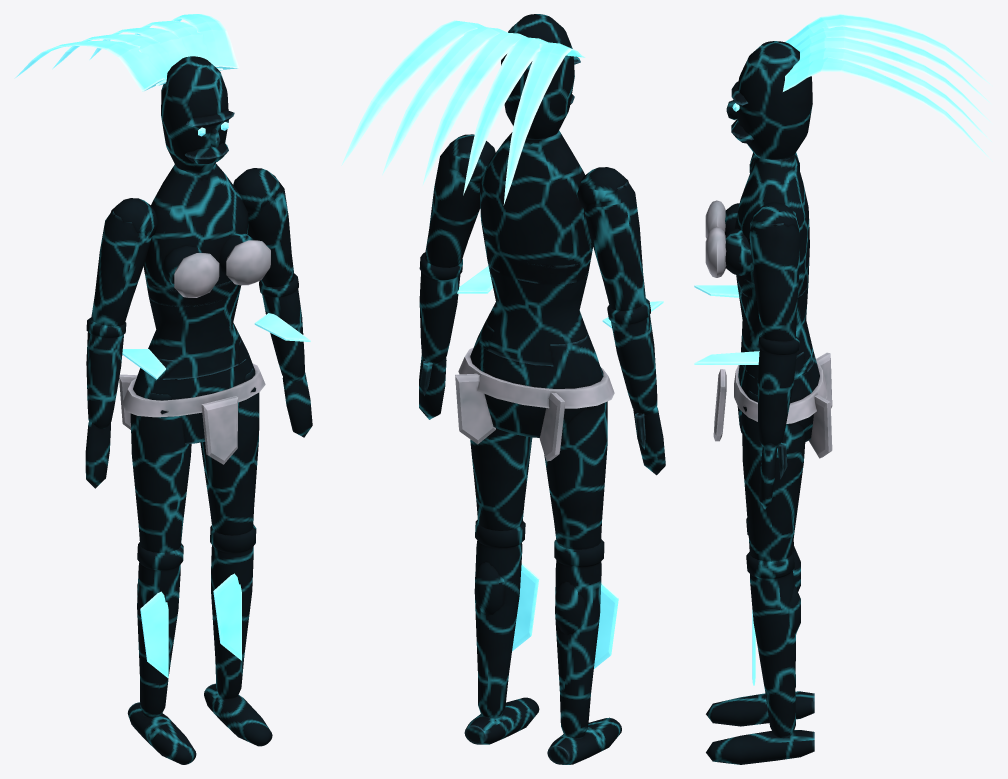
Rendered from underworld-surtling-water-feminine.glb.
The picture shows the model from 3 angles, left to right: view 1: azimuth 30°, elevation 25°; view 2: azimuth 150°, elevation 25°; view 3: azimuth 270°, elevation 25°; orthographic projection. The views are drawn at different scales.
Visible parts, largest first — view 1: Chest.chest, LeftUpperLeg.thigh, Spine.abdomen, Head.head, RightUpperLeg.thigh, LeftUpperArm.upper-arm, LeftLowerLeg.shin, RightLowerLeg.shin, Hips.pelvis, LeftLowerArm.forearm, RightUpperArm.upper-arm, Hips.girdle (+24 smaller); view 2: Chest.chest, Spine.abdomen, LeftUpperLeg.thigh, Hips.pelvis, LeftLowerLeg.shin, LeftUpperArm.upper-arm, RightLowerLeg.shin, RightUpperLeg.thigh, RightUpperArm.upper-arm, Head.head, LeftLowerArm.forearm, Head.current-0 (+23 smaller); view 3: Head.head, RightUpperLeg.thigh, RightLowerLeg.shin, RightUpperArm.upper-arm, Chest.chest, RightLowerArm.forearm, RightFoot.foot, Spine.abdomen, Head.current-4, LeftFoot.foot, Head.current-0, Head.current-3 (+14 smaller).
Part boxes in pixels (x1=…): Chest.chest: x1=143, y1=163, x2=248, y2=306; LeftUpperLeg.thigh: x1=130, y1=393, x2=191, y2=552; Spine.abdomen: x1=146, y1=280, x2=248, y2=379; Head.head: x1=161, y1=56, x2=228, y2=173; RightUpperLeg.thigh: x1=200, y1=368, x2=259, y2=535; LeftUpperArm.upper-arm: x1=91, y1=211, x2=151, y2=326; LeftLowerLeg.shin: x1=137, y1=562, x2=180, y2=717; RightLowerLeg.shin: x1=211, y1=545, x2=253, y2=698; Hips.pelvis: x1=133, y1=338, x2=255, y2=444; LeftLowerArm.forearm: x1=86, y1=332, x2=123, y2=428; RightUpperArm.upper-arm: x1=248, y1=176, x2=294, y2=287; Hips.girdle: x1=122, y1=363, x2=265, y2=417; Chest.chest: x1=480, y1=130, x2=592, y2=284; Spine.abdomen: x1=484, y1=248, x2=588, y2=366; LeftUpperLeg.thigh: x1=544, y1=367, x2=607, y2=549; Hips.pelvis: x1=470, y1=320, x2=603, y2=437; LeftLowerLeg.shin: x1=555, y1=560, x2=601, y2=738; LeftUpperArm.upper-arm: x1=584, y1=182, x2=645, y2=310; RightLowerLeg.shin: x1=474, y1=540, x2=522, y2=718; RightUpperLeg.thigh: x1=470, y1=428, x2=532, y2=530; RightUpperArm.upper-arm: x1=425, y1=143, x2=480, y2=267; Head.head: x1=501, y1=14, x2=574, y2=139; LeftLowerArm.forearm: x1=611, y1=315, x2=657, y2=415; Head.current-0: x1=503, y1=42, x2=585, y2=205; Head.head: x1=737, y1=41, x2=812, y2=159; RightUpperLeg.thigh: x1=742, y1=390, x2=805, y2=561; RightLowerLeg.shin: x1=750, y1=571, x2=796, y2=738; RightUpperArm.upper-arm: x1=749, y1=223, x2=799, y2=341; Chest.chest: x1=735, y1=156, x2=809, y2=300; RightLowerArm.forearm: x1=757, y1=348, x2=796, y2=447; RightFoot.foot: x1=706, y1=730, x2=814, y2=764; Spine.abdomen: x1=736, y1=272, x2=814, y2=377; Head.current-4: x1=783, y1=57, x2=992, y2=161; LeftFoot.foot: x1=706, y1=691, x2=814, y2=726; Head.current-0: x1=785, y1=14, x2=992, y2=86; Head.current-3: x1=785, y1=47, x2=991, y2=141.
Size of the model in its own units: 0.6538 by 1.88 by 0.725.
Materials: 3 (3 with a texture image).
